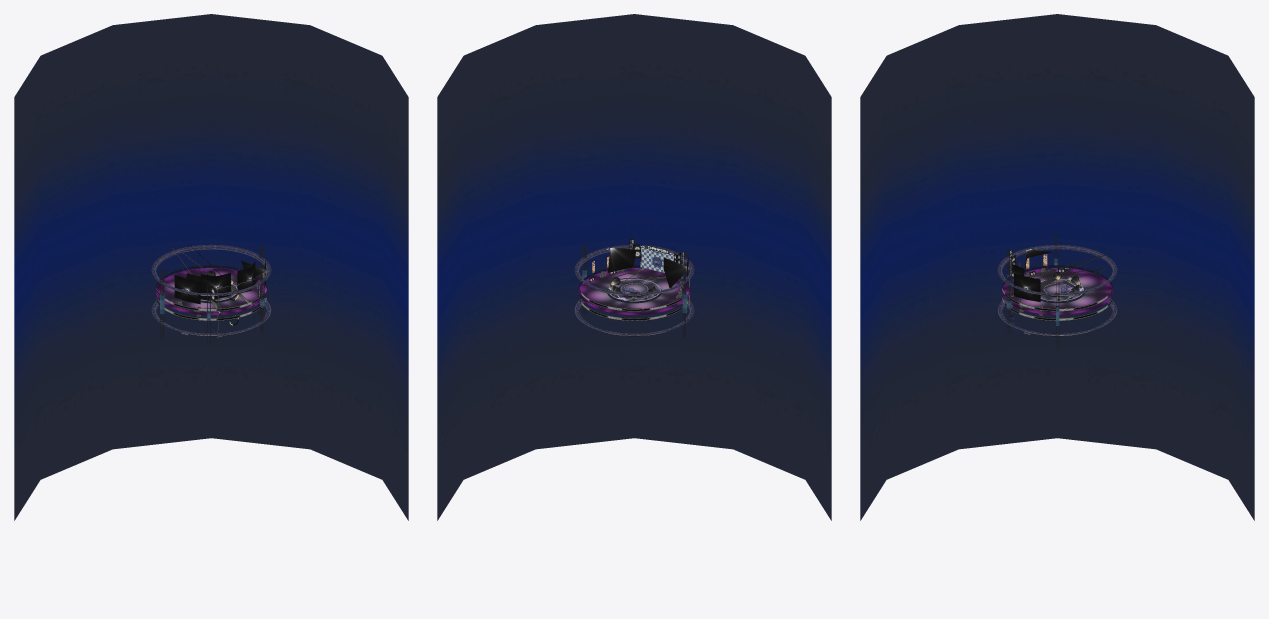
Rendered from podium.glb.
3 views of the same model, side by side, from view 1: azimuth 30°, elevation 25°; view 2: azimuth 150°, elevation 25°; view 3: azimuth 270°, elevation 25° (orthographic).
Visible parts, largest first — view 1: E_Podium_04, E_Podium_01, FX_Env_Podium_Line02a_High, E_Podium_03, FX_Env_Podium_board_02_Mid; view 2: E_Podium_04, E_Podium_03, E_Podium_01, FX_Env_Podium_Line02a_High, FX_Env_Podium_board_02_Mid; view 3: E_Podium_04, E_Podium_01, E_Podium_03, FX_Env_Podium_board_02_Mid, FX_Env_Podium_Line02a_High.
Boxes of the visible parts, x1,y1,x2,y2 form: E_Podium_04: [14, 14, 408, 520]; E_Podium_01: [151, 244, 271, 345]; FX_Env_Podium_Line02a_High: [174, 260, 266, 304]; E_Podium_03: [156, 268, 266, 314]; FX_Env_Podium_board_02_Mid: [156, 272, 266, 336]; E_Podium_04: [437, 14, 831, 520]; E_Podium_03: [579, 268, 689, 314]; E_Podium_01: [574, 238, 694, 338]; FX_Env_Podium_Line02a_High: [608, 247, 688, 287]; FX_Env_Podium_board_02_Mid: [579, 272, 689, 336]; E_Podium_04: [860, 14, 1254, 520]; E_Podium_01: [997, 232, 1117, 350]; E_Podium_03: [1002, 268, 1112, 314]; FX_Env_Podium_board_02_Mid: [1002, 275, 1112, 336]; FX_Env_Podium_Line02a_High: [1012, 249, 1051, 302].
Size of the model in its own units: 267 by 317 by 267.
13 materials, 13 textured.
